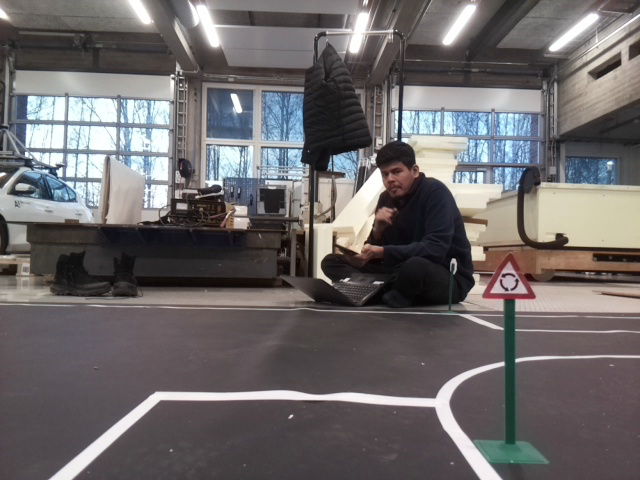Roundabout: (477, 258, 537, 298)
